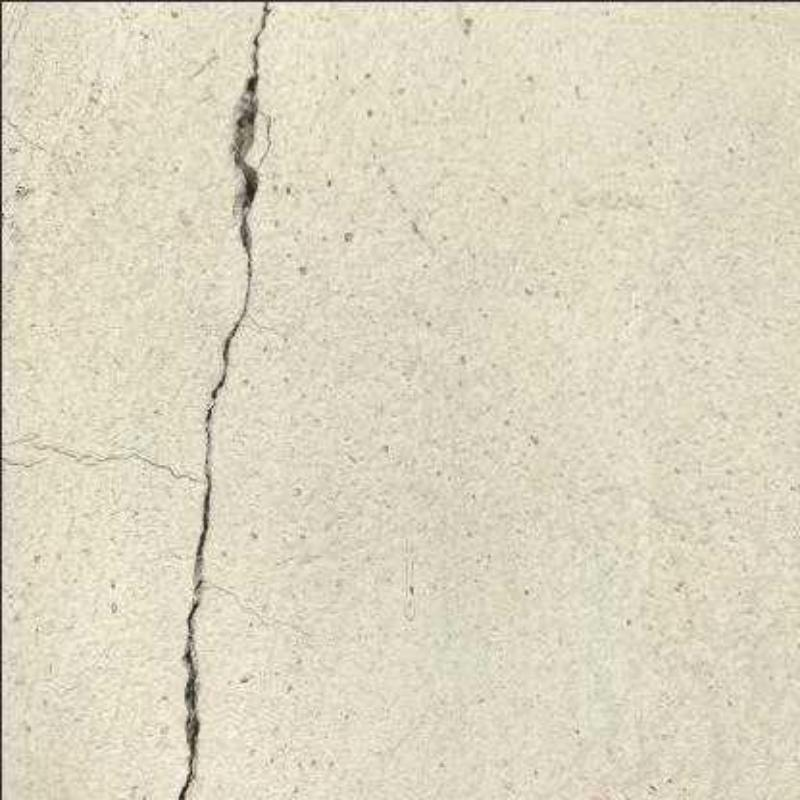pothole: (178, 2, 272, 798), (2, 433, 204, 485), (252, 113, 273, 169), (0, 456, 50, 467)
